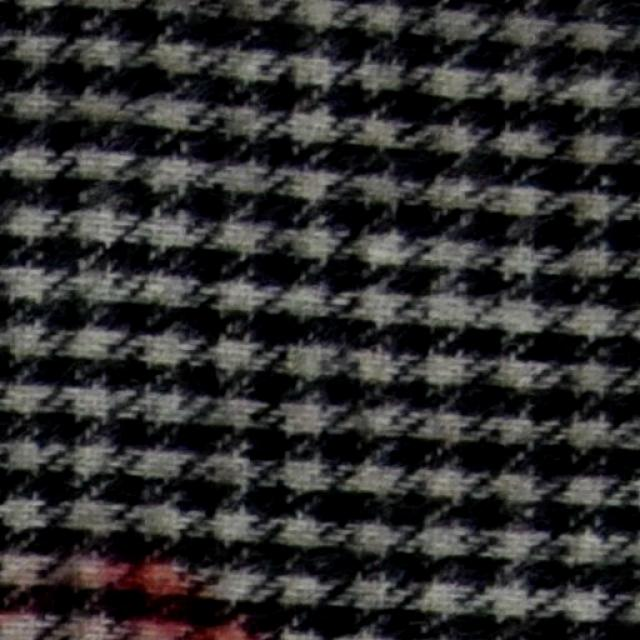Stain: (0, 562, 254, 640)
